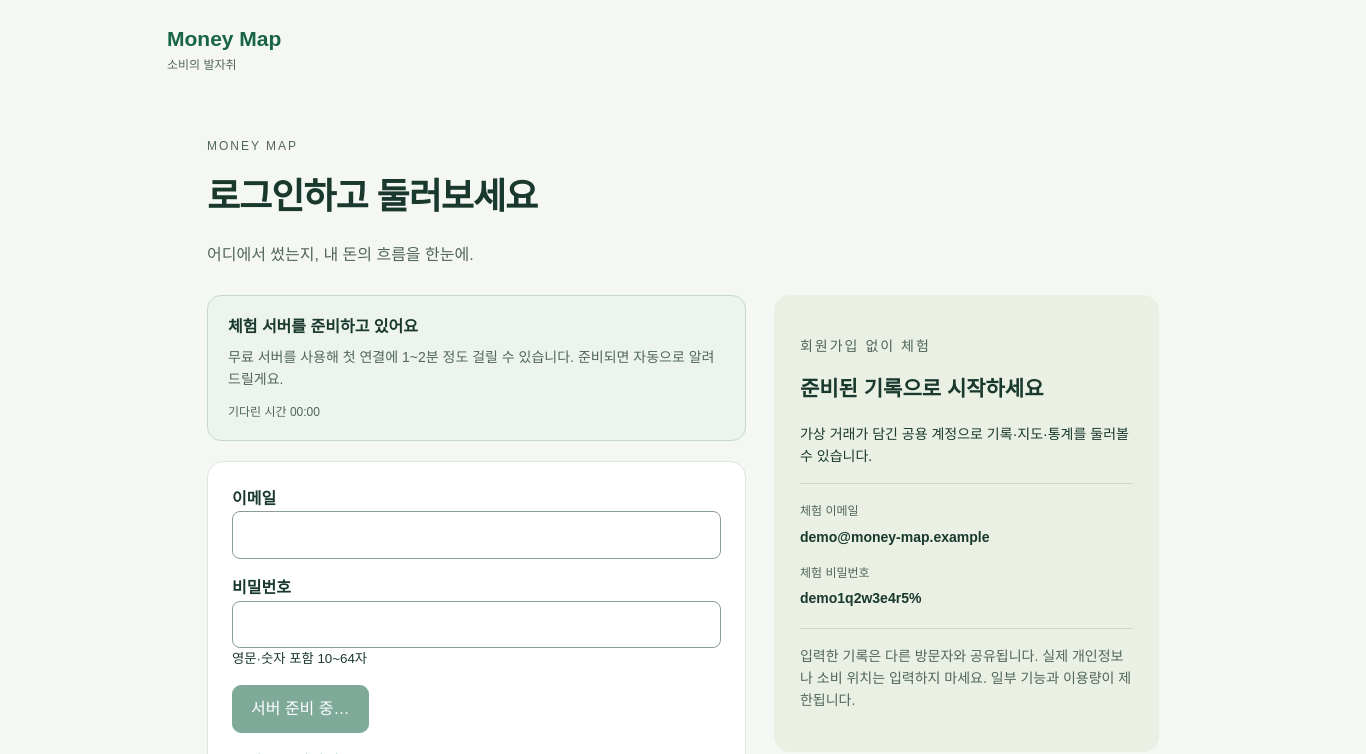
Test case: 2분 이상 기다려도 로그인 입력을 유지하고 화면 종료 시 준비 요청을 취소한다
Type "demo@money-map.example" into the field labelled "이메일" at (476, 535), box [232,511,721,559]
Wait 120000 ms
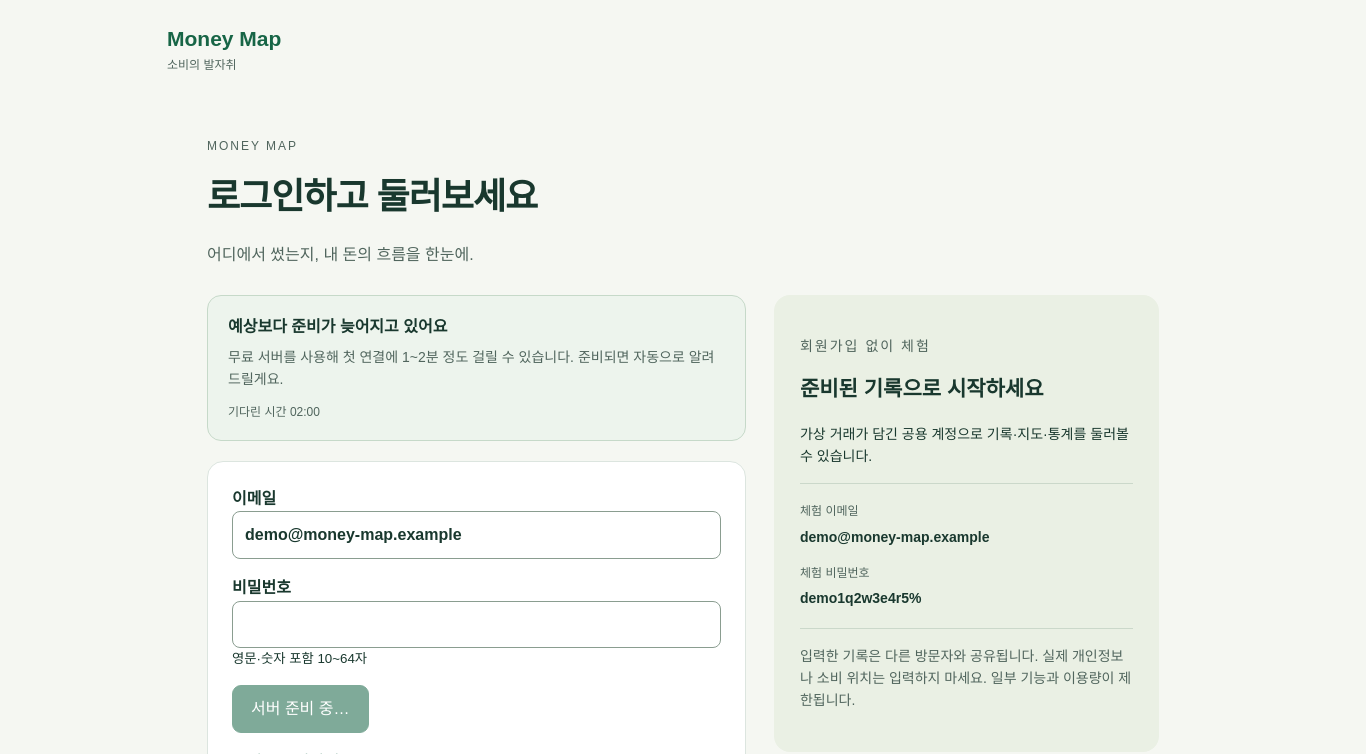
Now the text "예상보다 준비가 늦어지고 있어요" is shown, box [228,318,447,335]
